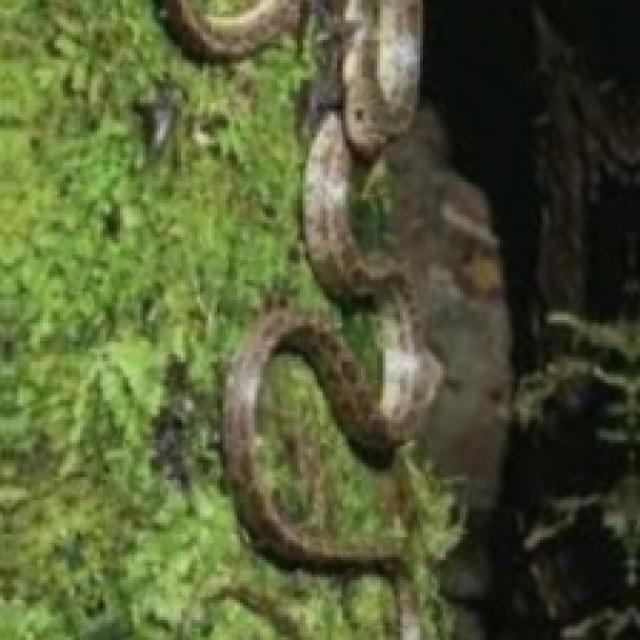mullers wolf snake: (134, 0, 457, 637), (157, 0, 440, 594), (143, 337, 234, 509), (254, 354, 326, 517), (246, 351, 294, 526)
